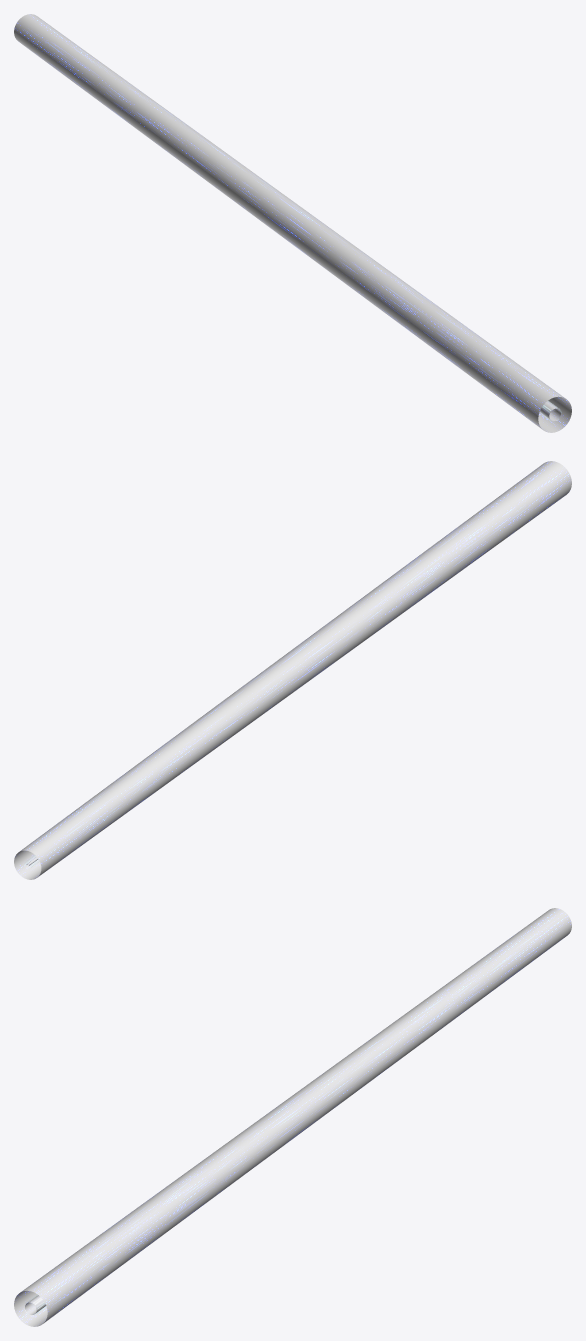
File: RunEffect.glb
3 renders of one model, top to bottom at view 1: azimuth 30°, elevation 25°; view 2: azimuth 150°, elevation 25°; view 3: azimuth 330°, elevation 25°, orthographic.
Parts seen in each view (by area): view 1: Cylinder.003; view 2: Cylinder.003; view 3: Cylinder.003.
Part boxes in pixels (x1=…): Cylinder.003: x1=14, y1=14, x2=571, y2=432; Cylinder.003: x1=14, y1=461, x2=571, y2=879; Cylinder.003: x1=14, y1=908, x2=571, y2=1326.
Size of the model in its own units: 19.33 by 19.33 by 524.
4 materials, 4 textured.
